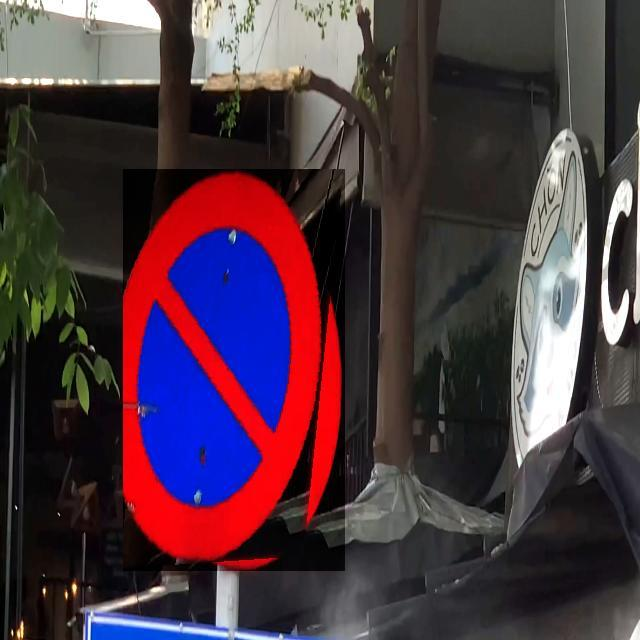P-131a: (123, 169, 345, 571)
